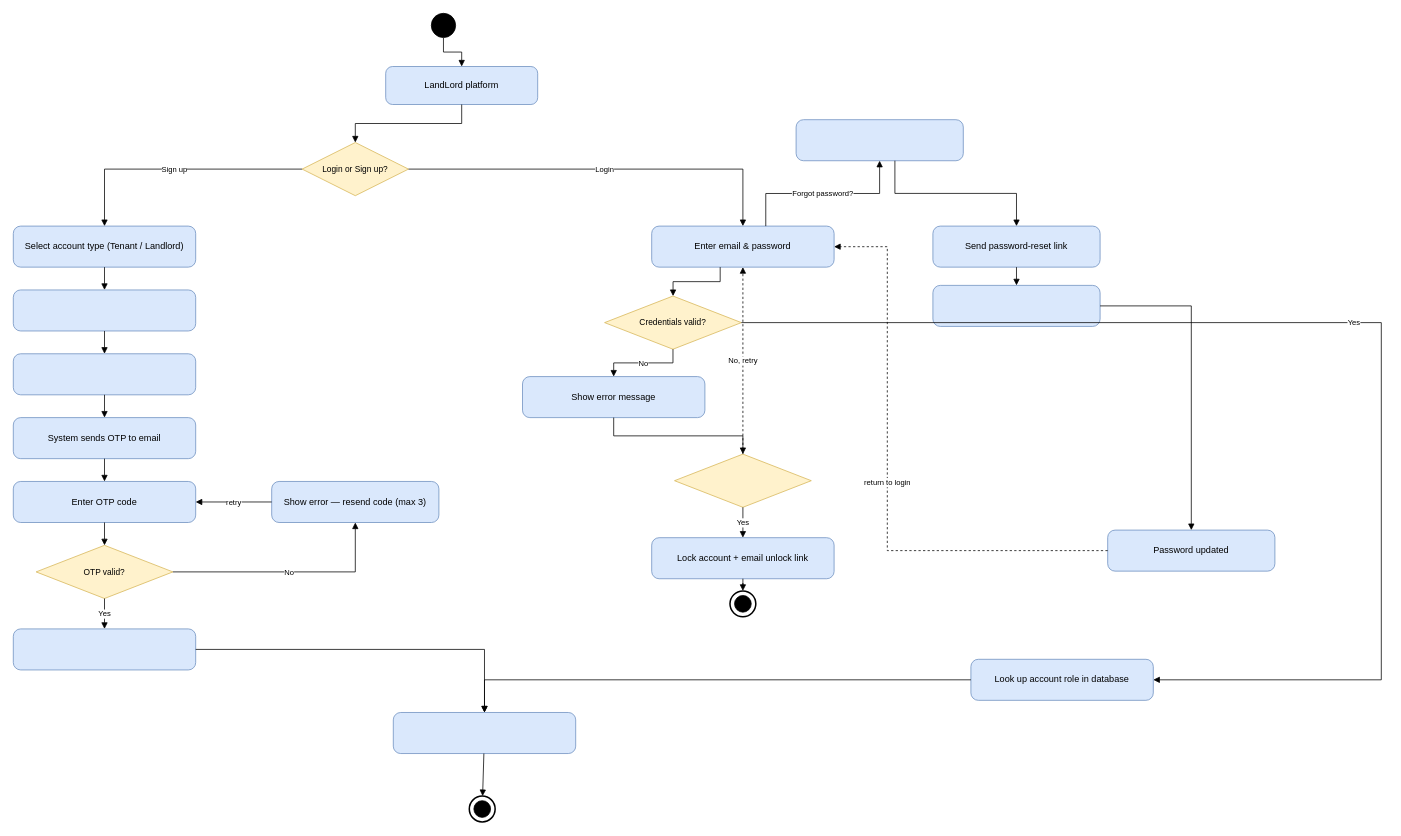
Image size: 1401x836. Some labels were removed from this diagram. Here are the shapes that lost their labels. From the top down, the box of each, then its label:
(795, 119, 963, 161): Enter account email
(13, 289, 196, 331): Enter name, email, phone, password
(932, 285, 1100, 326): Open link, set new password
(13, 353, 196, 395): Accept Terms & Privacy Policy
(674, 453, 811, 507): 5 failed attempts?
(13, 628, 196, 670): Create account & assign role
(393, 712, 576, 754): Redirect to role-based dashboard
